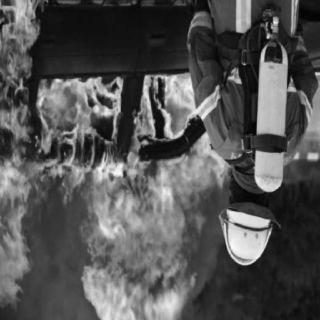Fire: (2, 4, 230, 318)
other: (247, 45, 315, 198)
